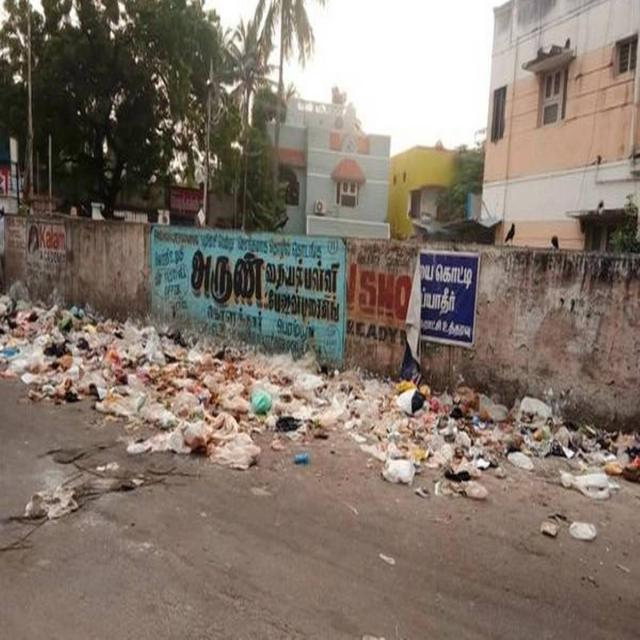garbage: (0, 264, 640, 558)
